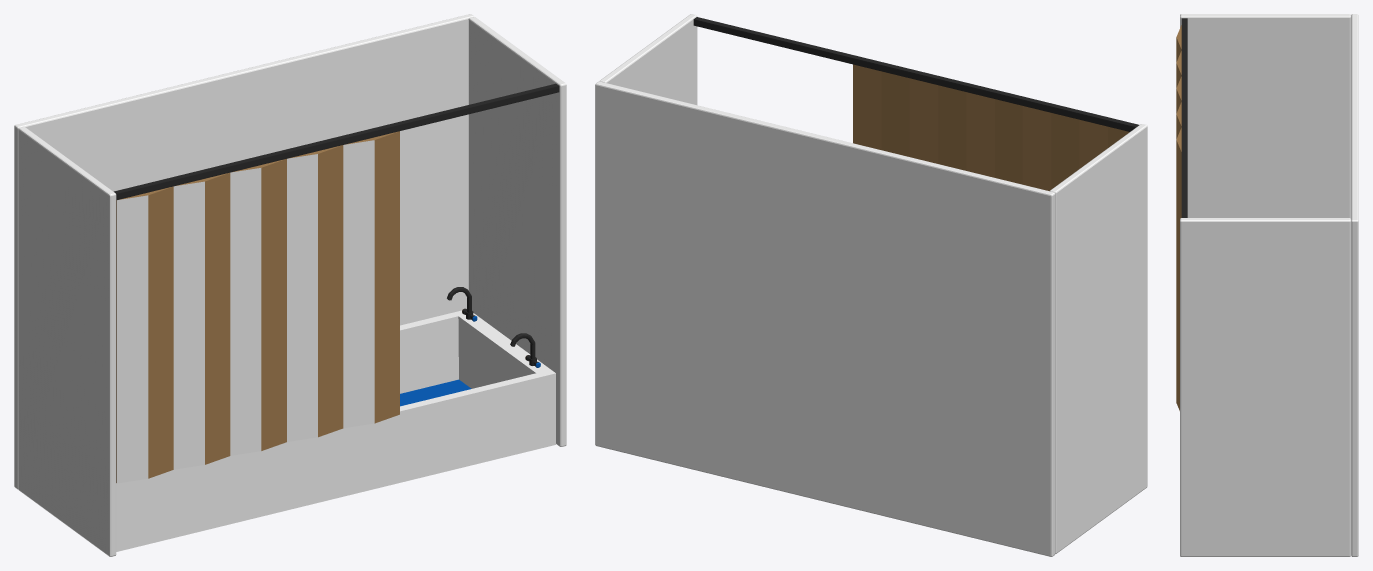
Rendered from Banio.fbx.
3 views of the same model, side by side, from view 1: azimuth 30°, elevation 25°; view 2: azimuth 150°, elevation 25°; view 3: azimuth 270°, elevation 25° (orthographic). The views are drawn at different scales.
Visible parts, largest first — view 1: Banio; view 2: Banio; view 3: Banio.
Boxes of the visible parts, <box> form: Banio: <box>14,14,566,556</box>; Banio: <box>595,14,1147,556</box>; Banio: <box>1176,14,1358,556</box>.
Bounding box in the file's own units: 3.61 × 2.74 × 1.34.
